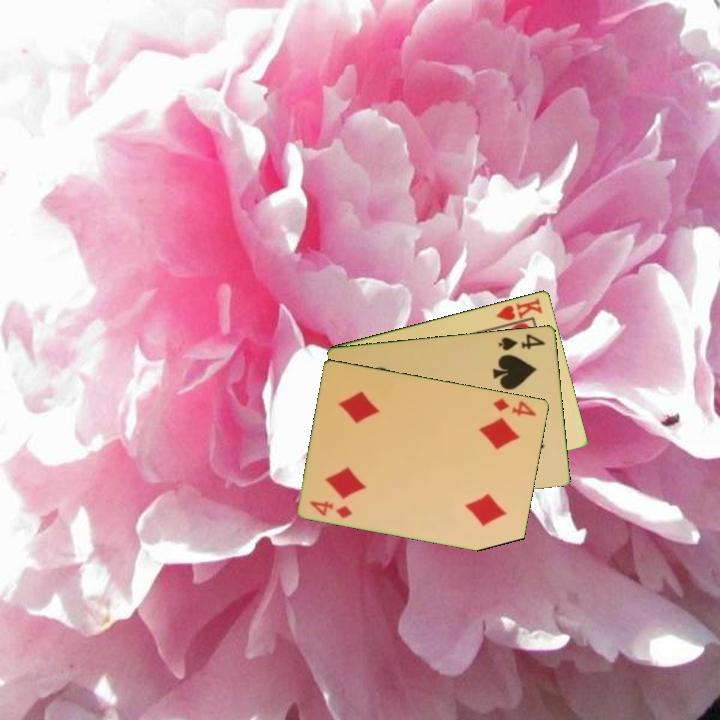4d: (490, 394, 539, 419), (306, 497, 355, 521)
4s: (495, 330, 548, 353)
Kh: (493, 294, 545, 329)
